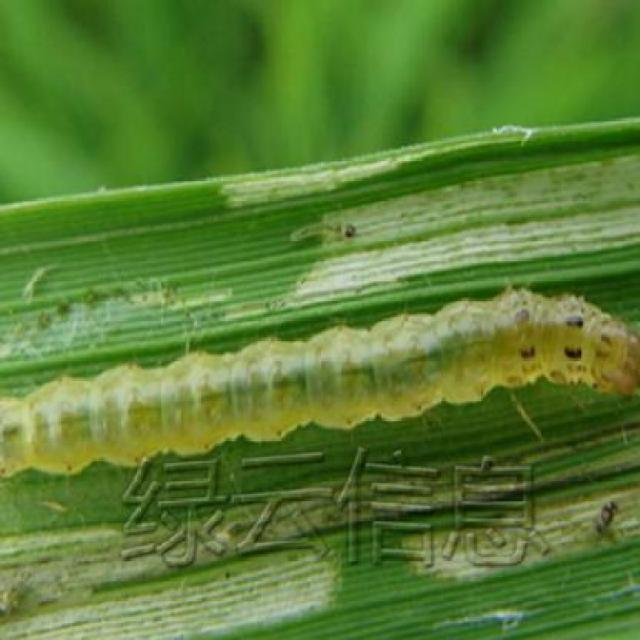leaf-folder: (0, 279, 632, 514), (254, 200, 372, 248)
